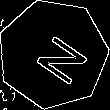N_NW: (21, 23, 85, 85)
